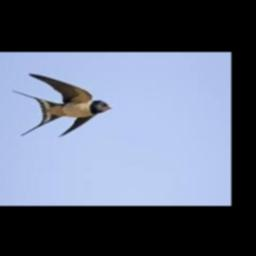Swallow: (11, 73, 112, 137)
